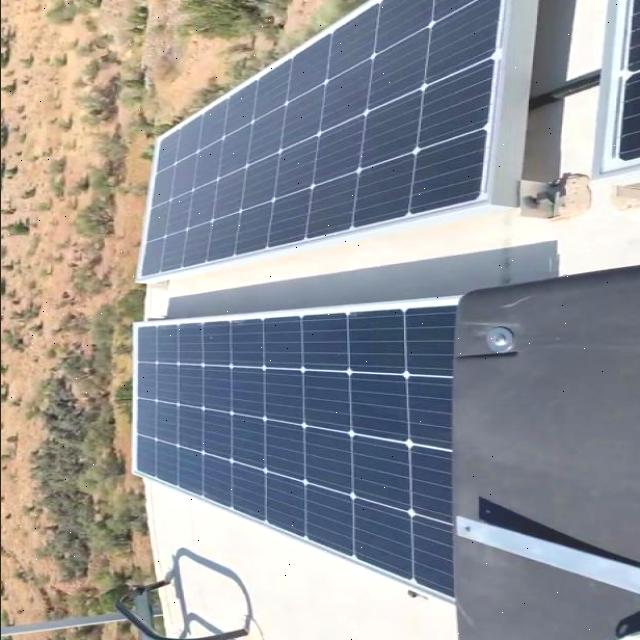Normal Solar Panel: (129, 0, 505, 277), (126, 300, 466, 604), (592, 0, 640, 176)
